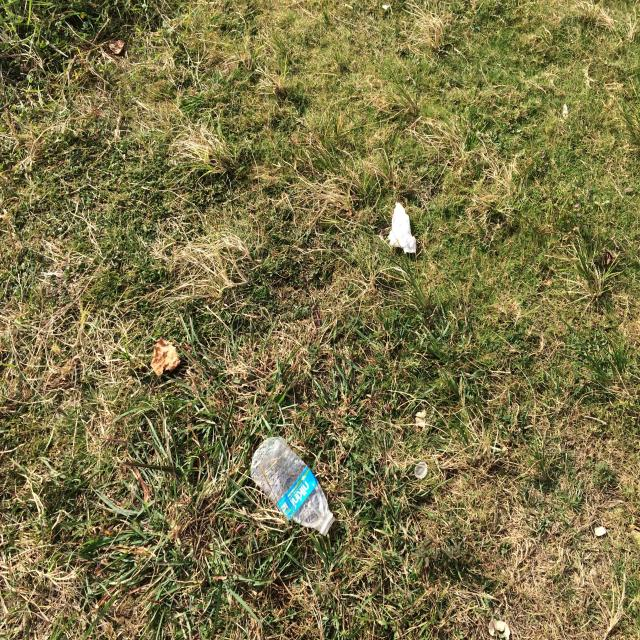litter: (250, 440, 338, 529)
